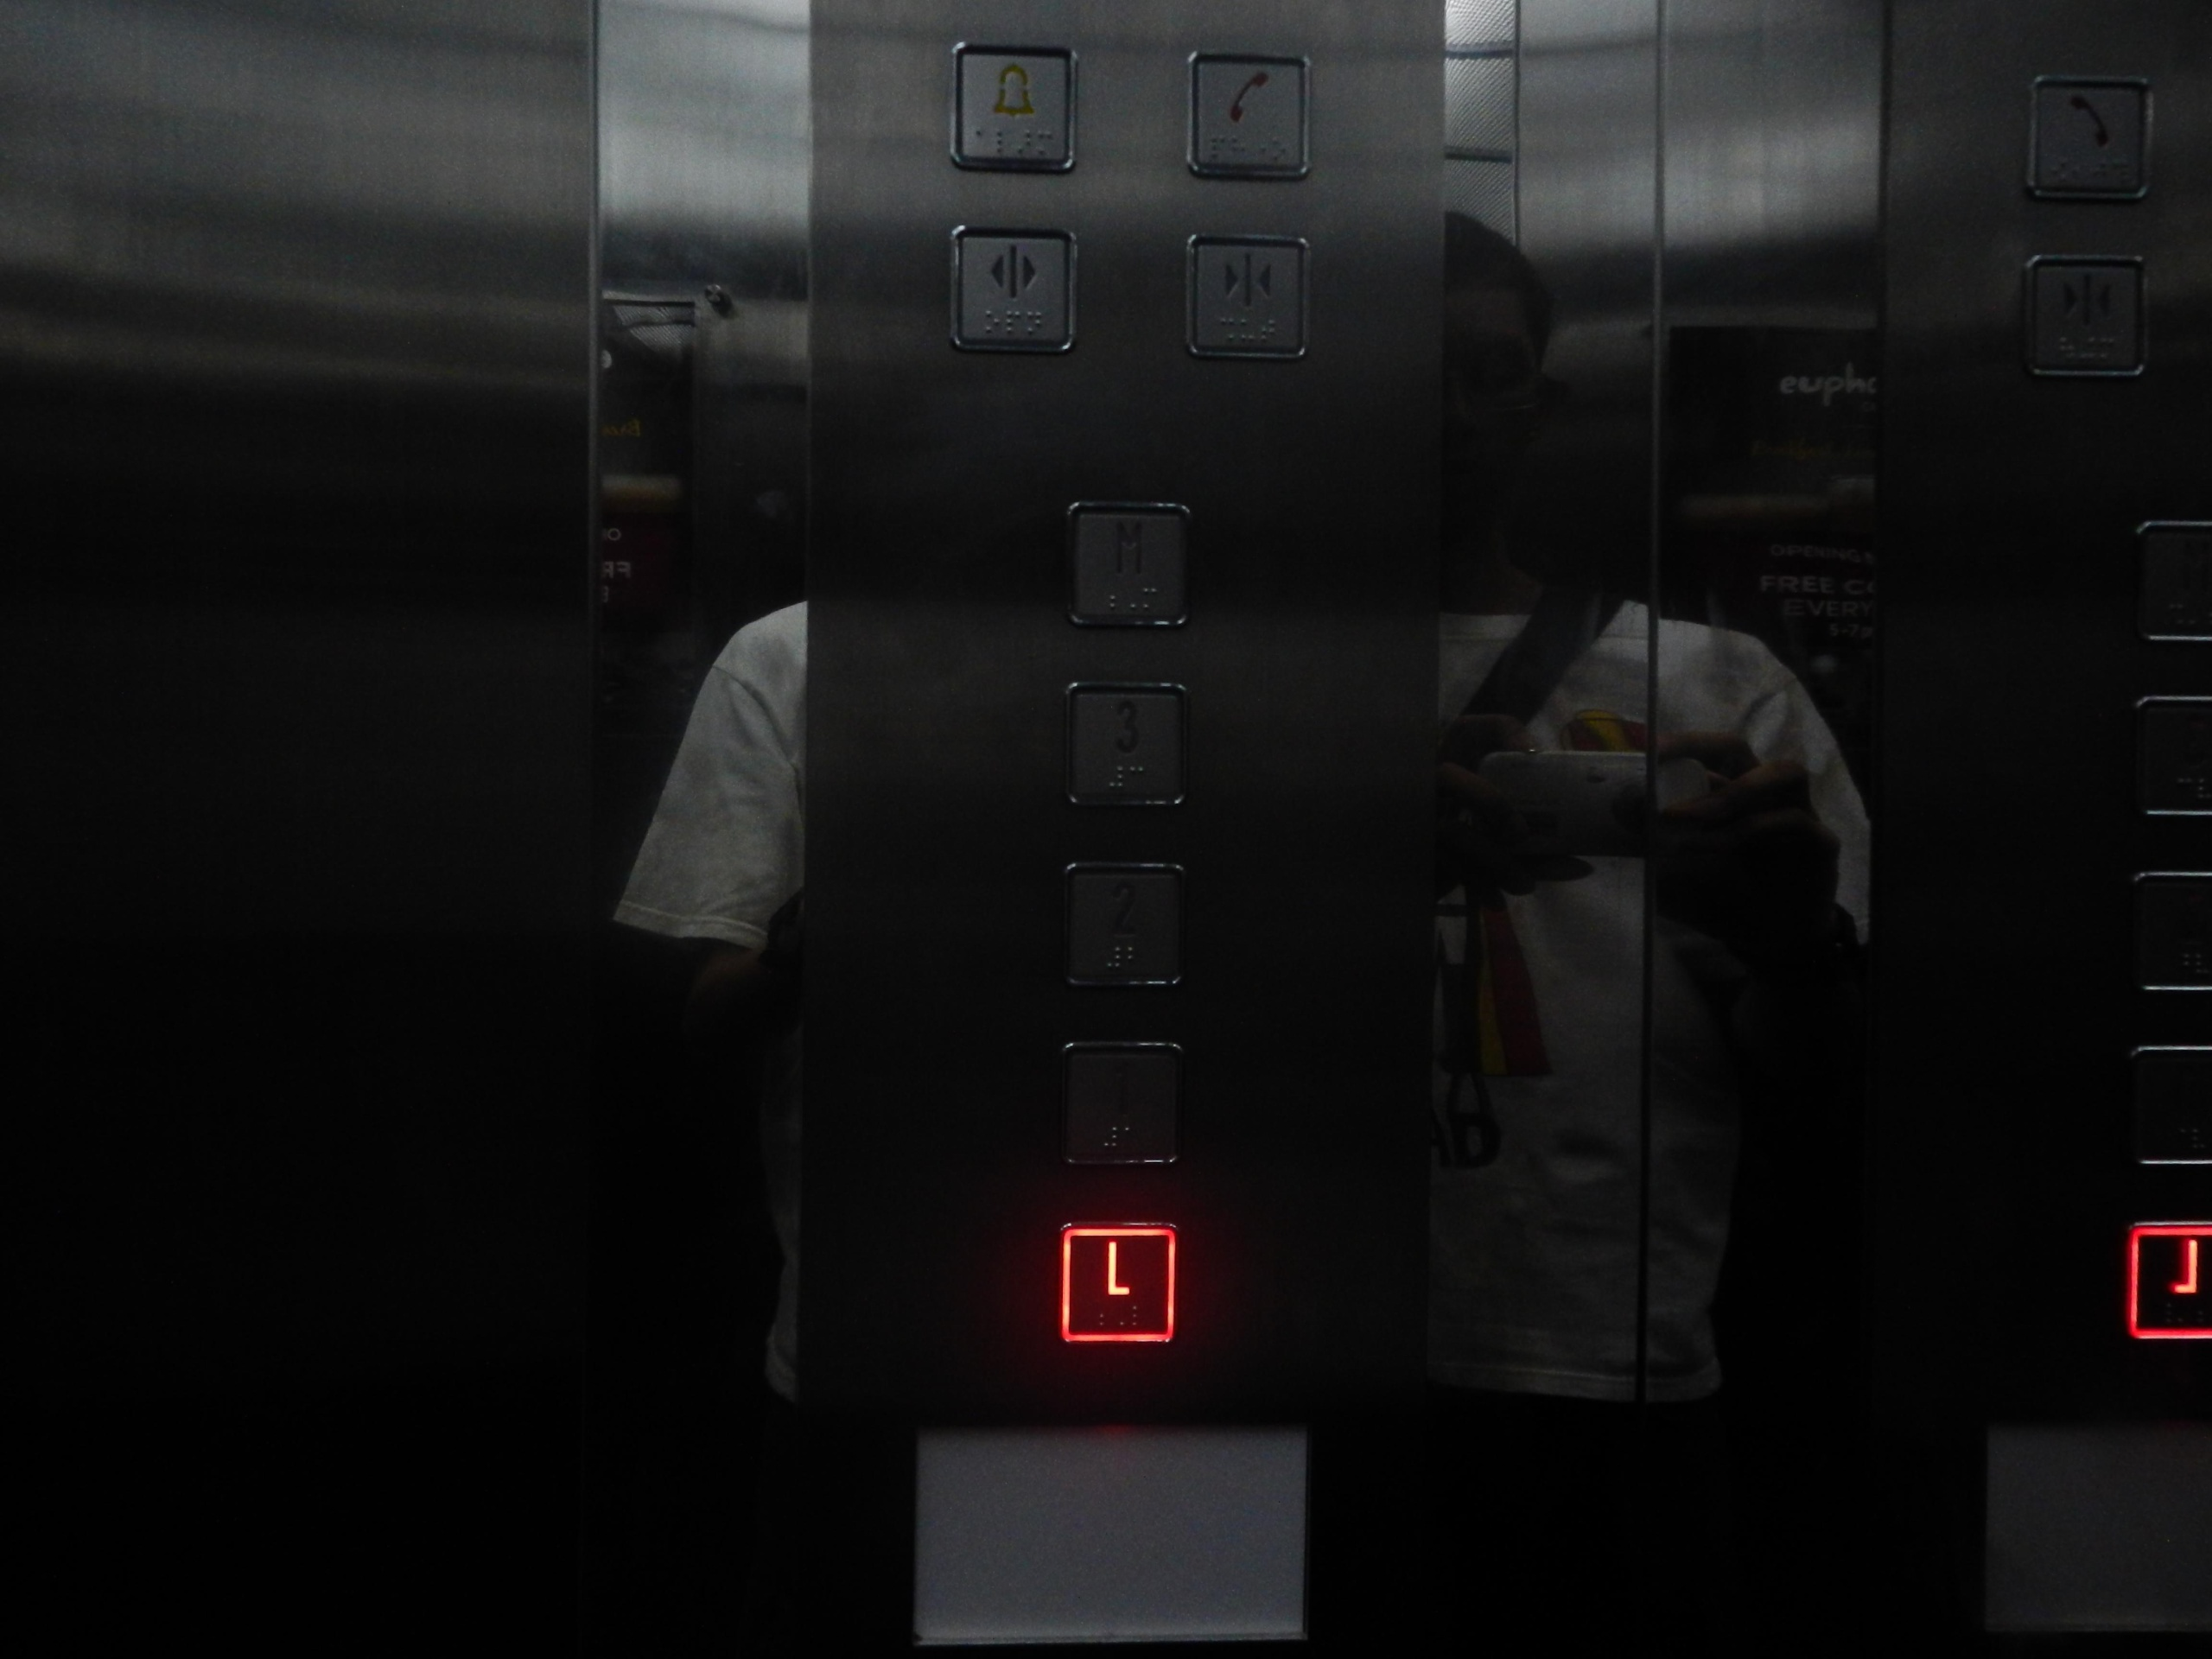1: (1054, 1035, 1190, 1171)
2: (1055, 856, 1195, 993)
3: (1061, 676, 1195, 812)
L: (1055, 1218, 1179, 1345)
M: (1059, 497, 1200, 631)
alarm: (948, 42, 1080, 176)
call: (1186, 51, 1317, 183)
close: (1184, 232, 1313, 362)
open: (948, 218, 1082, 355)
